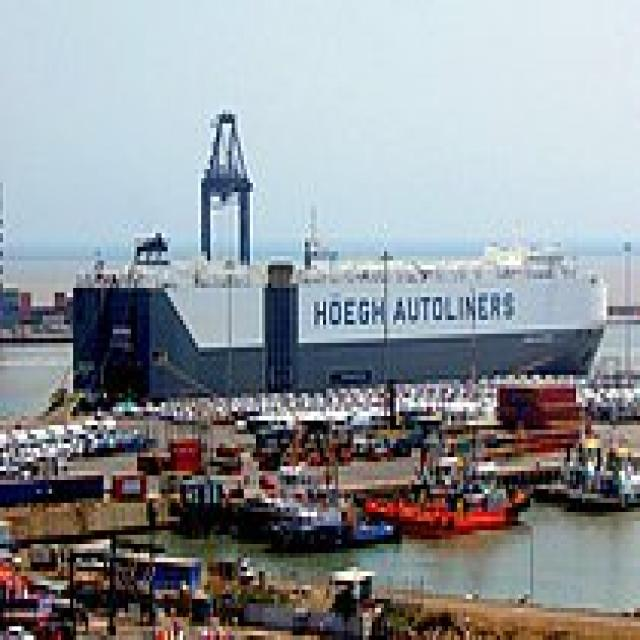Carrier: (64, 219, 610, 384)
